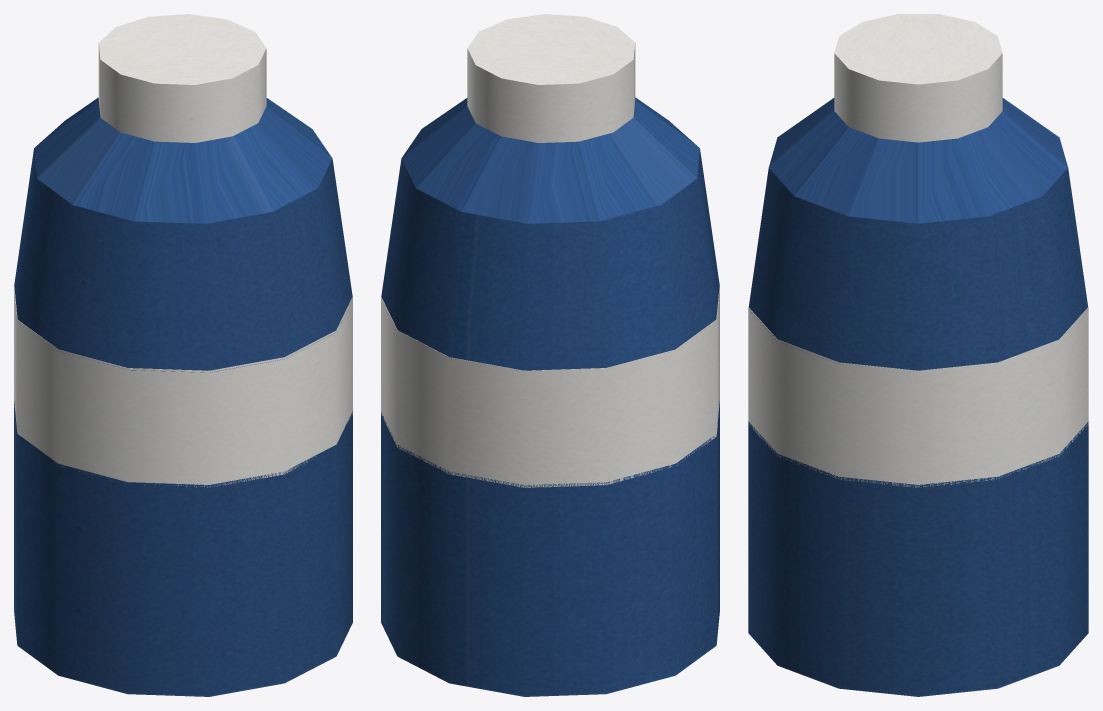
File: PetBotol.FBX
3 renders of one model, left to right at view 1: azimuth 30°, elevation 25°; view 2: azimuth 150°, elevation 25°; view 3: azimuth 270°, elevation 25°, orthographic.
Visible parts, largest first — view 1: Cylinder003, Cylinder001, Cylinder002, Cylinder004; view 2: Cylinder003, Cylinder001, Cylinder002, Cylinder004; view 3: Cylinder001, Cylinder003, Cylinder002, Cylinder004.
Boxes of the visible parts, left/top/right/bottom form: Cylinder003: left=14, top=97, right=352, bottom=372; Cylinder001: left=14, top=401, right=352, bottom=696; Cylinder002: left=14, top=285, right=352, bottom=487; Cylinder004: left=98, top=14, right=266, bottom=142; Cylinder003: left=381, top=97, right=719, bottom=370; Cylinder001: left=381, top=401, right=719, bottom=696; Cylinder002: left=381, top=285, right=719, bottom=487; Cylinder004: left=467, top=14, right=635, bottom=142; Cylinder001: left=748, top=421, right=1088, bottom=696; Cylinder003: left=748, top=98, right=1087, bottom=370; Cylinder002: left=748, top=306, right=1088, bottom=487; Cylinder004: left=834, top=14, right=1002, bottom=142.
Bounding box in the file's own units: 23.04 × 23.21 × 43.36.
2 materials, 2 textured.
